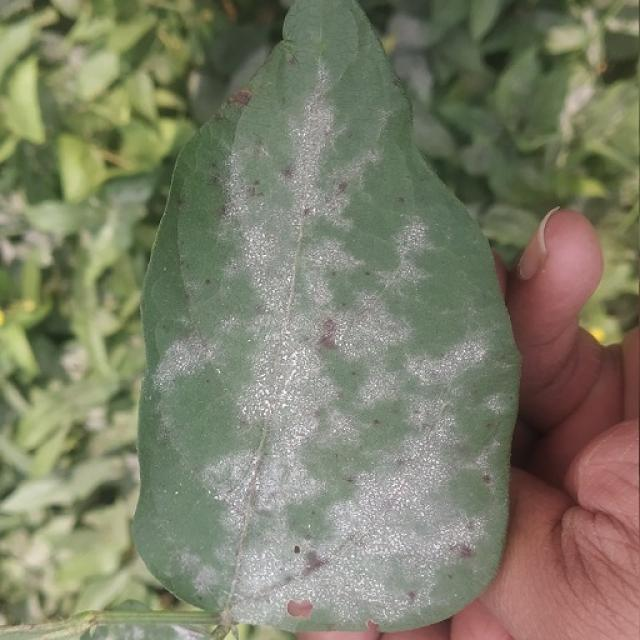Blackgram: (132, 1, 516, 629)
Powdery_Mildew: (219, 249, 477, 529), (250, 481, 475, 633), (136, 372, 260, 619), (330, 210, 497, 391), (319, 405, 467, 556), (280, 188, 393, 332), (226, 190, 316, 329), (326, 324, 435, 431), (277, 77, 358, 214), (255, 349, 339, 471), (157, 331, 223, 418), (419, 327, 493, 396), (152, 322, 206, 396), (167, 332, 205, 367), (193, 564, 221, 597), (317, 317, 341, 350), (303, 550, 327, 573), (251, 455, 267, 479), (313, 336, 333, 354), (246, 182, 262, 199), (255, 503, 274, 517), (281, 163, 295, 179), (336, 181, 348, 196), (219, 203, 230, 218), (209, 174, 221, 187), (313, 408, 324, 419), (302, 206, 313, 217), (213, 492, 223, 502), (345, 475, 355, 483), (207, 488, 213, 495), (246, 338, 252, 344), (174, 490, 179, 496)
